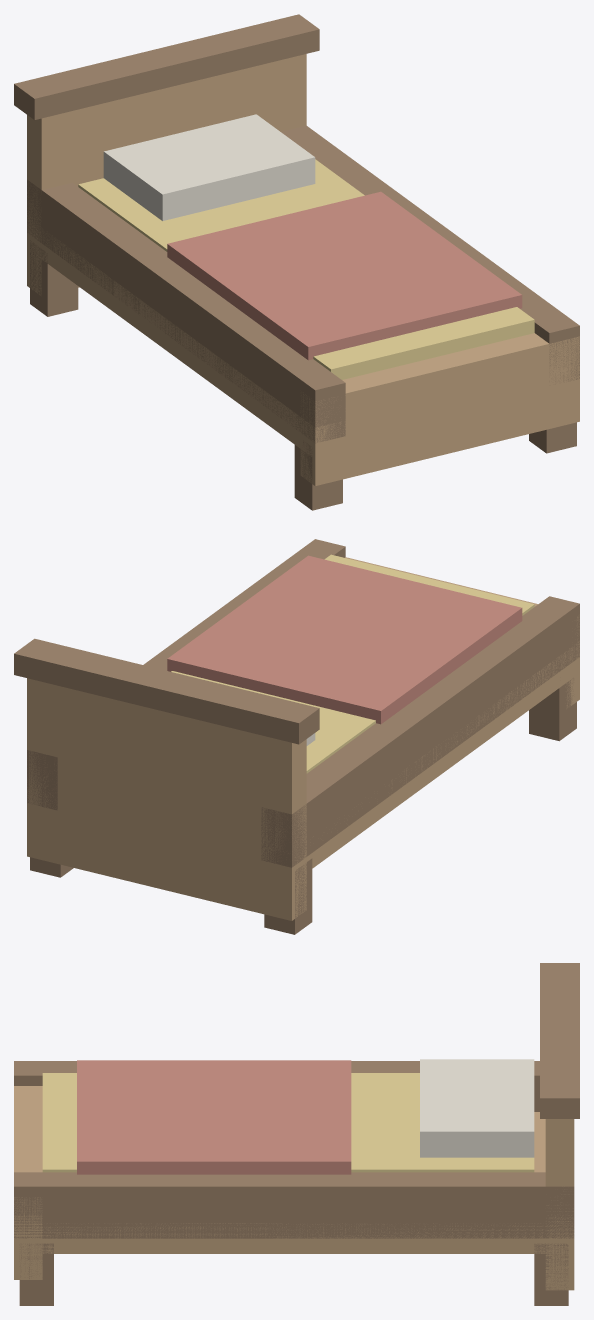
Rendered from furniture_bed.glb.
3 views of the same model, one above another, from view 1: azimuth 30°, elevation 25°; view 2: azimuth 150°, elevation 25°; view 3: azimuth 270°, elevation 25° (orthographic). The views are drawn at different scales.
Parts seen in each view (by area): view 1: wood, wood_dark, cloth_red, cloth, straw; view 2: wood, wood_dark, cloth_red, straw; view 3: wood_dark, cloth_red, wood, straw, cloth.
Boxes of the visible parts, <box> form: wood: <box>27,54,579,486</box>; wood_dark: <box>14,14,579,510</box>; cloth_red: <box>167,191,522,360</box>; cloth: <box>103,114,315,220</box>; straw: <box>78,159,534,379</box>; wood: <box>27,557,579,920</box>; wood_dark: <box>14,539,579,934</box>; cloth_red: <box>167,555,522,724</box>; straw: <box>171,554,534,773</box>; wood_dark: <box>14,963,579,1305</box>; cloth_red: <box>77,1060,351,1174</box>; wood: <box>14,1086,574,1290</box>; straw: <box>42,1073,534,1172</box>; cloth: <box>420,1059,534,1157</box>.
Bounding box in the file's own units: 0.56 × 0.41 × 0.99.
